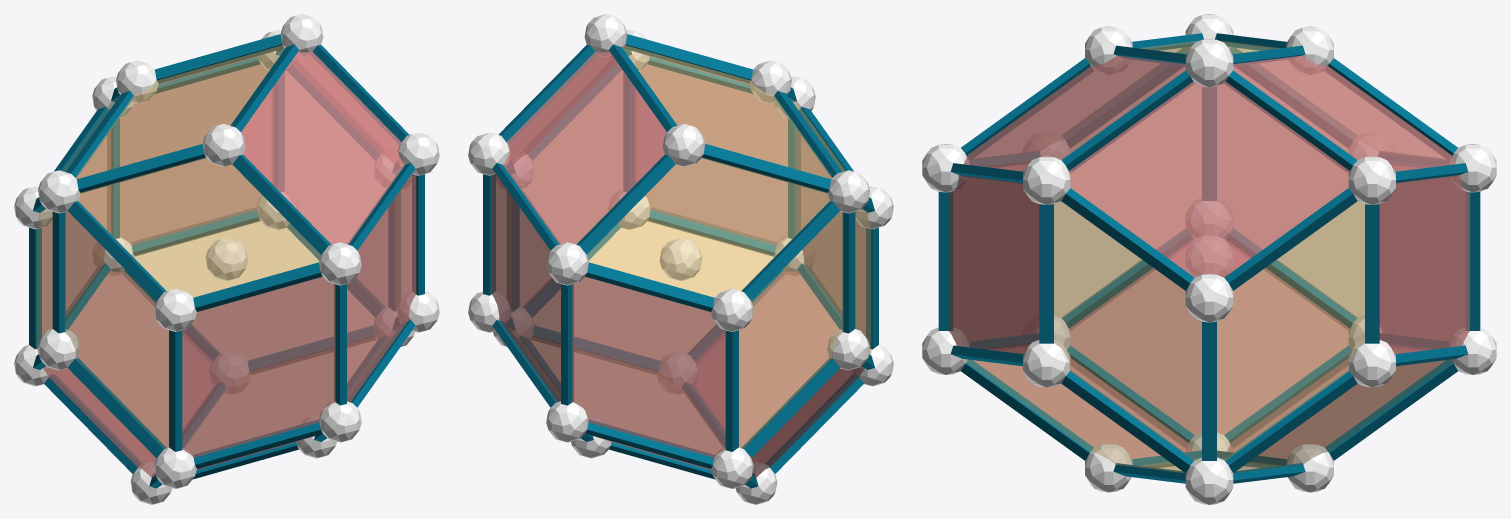
File: Rhombic Icosahedron in Golden Field.dae
3 views of the same model, side by side, from view 1: azimuth 30°, elevation 25°; view 2: azimuth 150°, elevation 25°; view 3: azimuth 270°, elevation 25° (orthographic). The views are drawn at different scales.
Visible parts, largest first — view 1: instance10, instance12, instance41, instance37, instance44, instance1, instance72, instance28, instance71, instance47, instance64, instance77 (+53 smaller); view 2: instance47, instance29, instance65, instance28, instance50, instance24, instance72, instance37, instance13, instance10, instance64, instance77 (+53 smaller); view 3: instance77, instance64, instance6, instance20, instance28, instance37, instance10, instance47, instance41, instance65, instance13, instance71 (+57 smaller).
Boxes of the visible parts, box(x1,y1,x2,y2) form: instance10: box(182, 276, 335, 457); instance12: box(78, 157, 320, 297); instance41: box(241, 51, 404, 244); instance37: box(120, 64, 272, 244); instance44: box(65, 211, 168, 448); instance1: box(55, 271, 215, 463); instance72: box(75, 45, 285, 178); instance28: box(347, 173, 416, 402); instance71: box(134, 221, 318, 297); instance47: box(42, 130, 110, 336); instance64: box(43, 366, 156, 477); instance77: box(291, 55, 398, 163); instance47: box(572, 276, 725, 457); instance29: box(587, 157, 829, 297); instance65: box(503, 51, 666, 244); instance28: box(635, 64, 787, 244); instance50: box(739, 211, 842, 448); instance24: box(692, 271, 852, 463); instance72: box(622, 45, 832, 178); instance37: box(491, 173, 560, 402); instance13: box(589, 221, 773, 297); instance10: box(797, 130, 865, 336); instance64: box(751, 366, 864, 477); instance77: box(509, 55, 616, 163); instance77: box(1069, 81, 1349, 277); instance64: box(1069, 239, 1349, 434); instance6: box(1054, 201, 1201, 460); instance20: box(1217, 201, 1364, 460); instance28: box(949, 175, 1039, 354); instance37: box(1379, 175, 1469, 354); instance10: box(954, 164, 1038, 340); instance47: box(1380, 164, 1464, 340); instance41: box(963, 55, 1185, 171); instance65: box(1233, 55, 1455, 171); instance13: box(964, 359, 1184, 472); instance71: box(1234, 359, 1454, 472).
Bounding box in the file's own units: 20.94 × 24.18 × 24.18.
